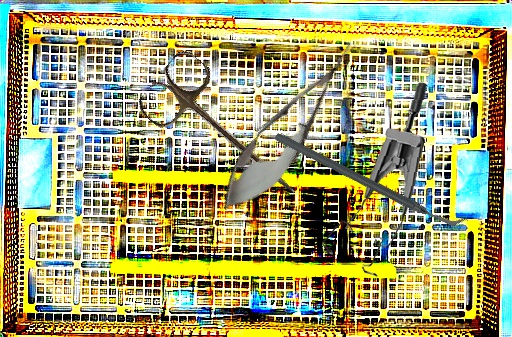Chopper: (271, 75, 470, 284)
Iris Scissors: (133, 46, 322, 220)
Micro Scissor: (205, 27, 374, 227)
Speculum: (320, 74, 429, 281)
